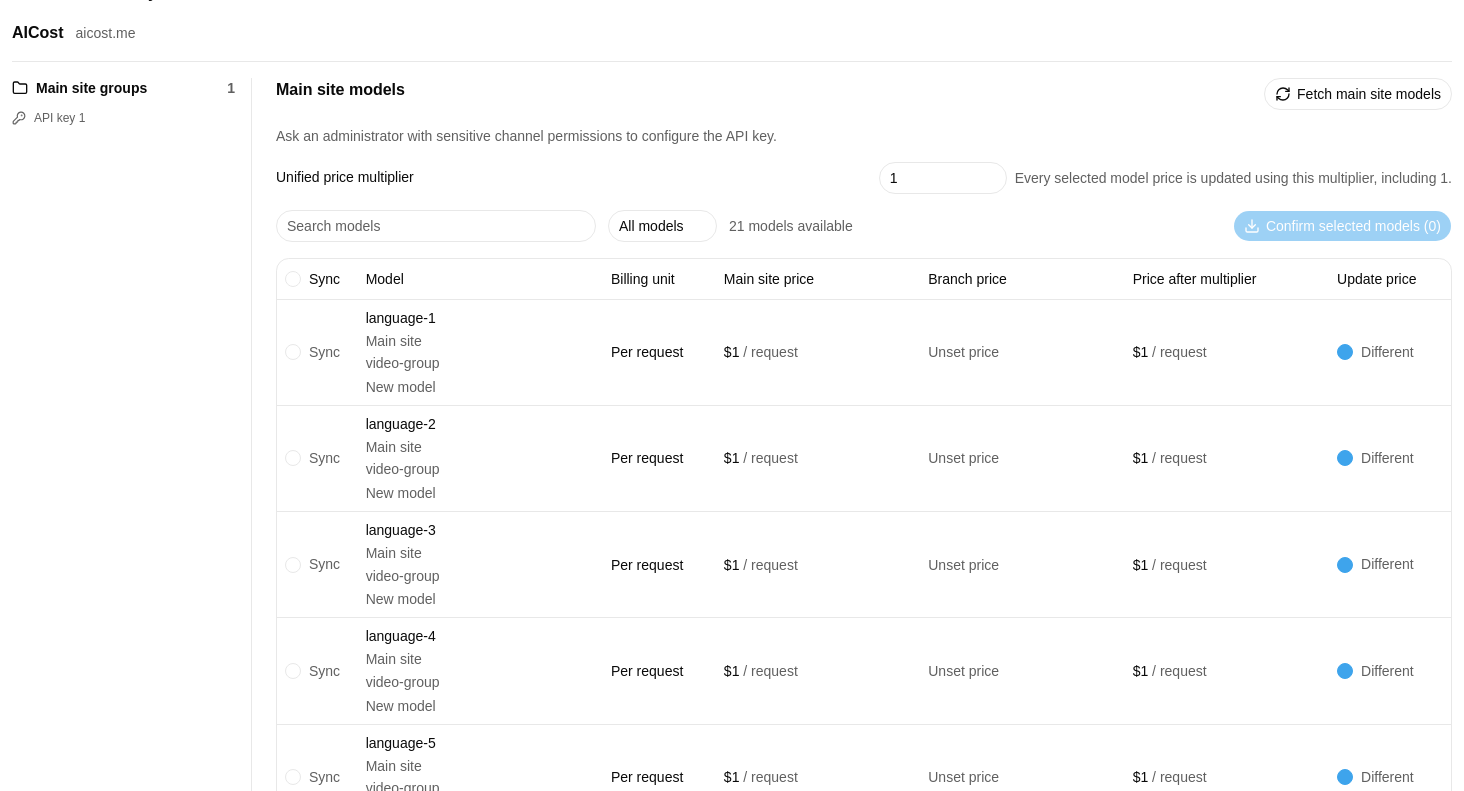
Test: main site catalog pagination › keeps blocked models with null prices visible when paging and expanding groups
The image size is (1464, 791).
Click the button "Fetch main site models" at (1358, 94), box [1264,78,1452,110]
(page scrolled)
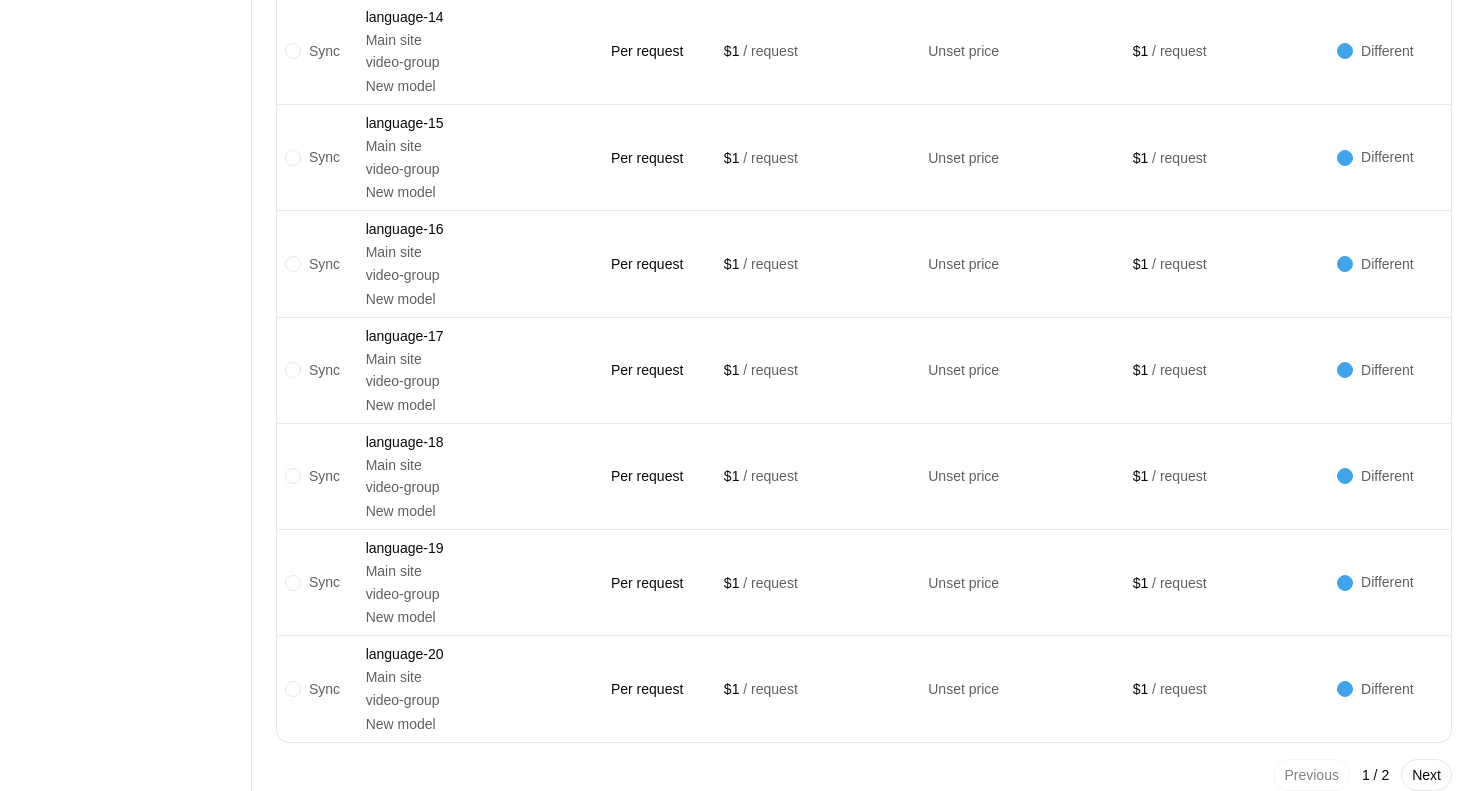
Click the button "Next" at (1427, 775), box [1401,759,1452,790]
(page scrolled)
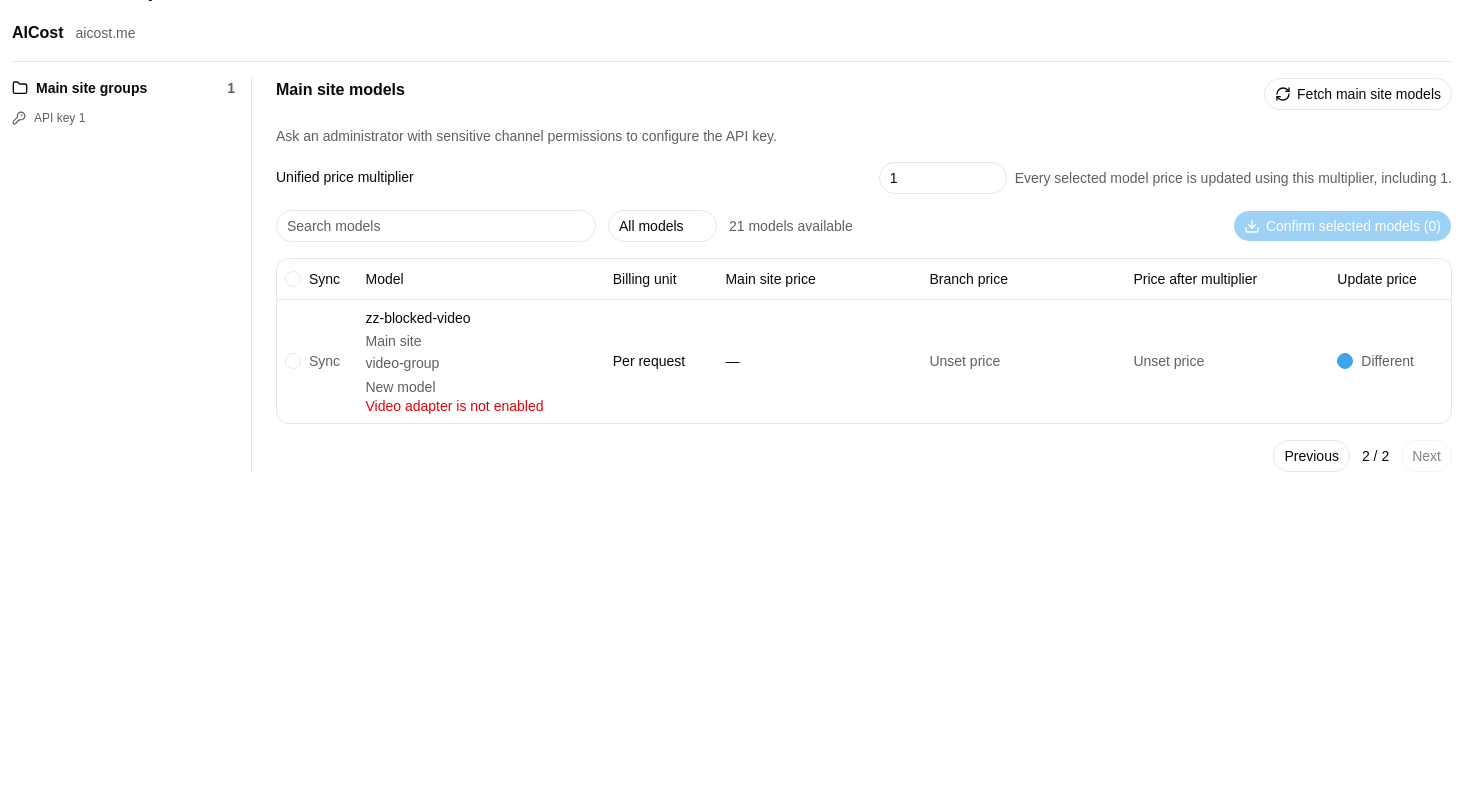
Check: the 1st text "Unset price" is shown, box [929,354,1000,370]
Check: the text "Video adapter is not enabled" is shown, box [366,398,544,414]
Click the button "Previous" at (1312, 456), box [1274,440,1350,472]
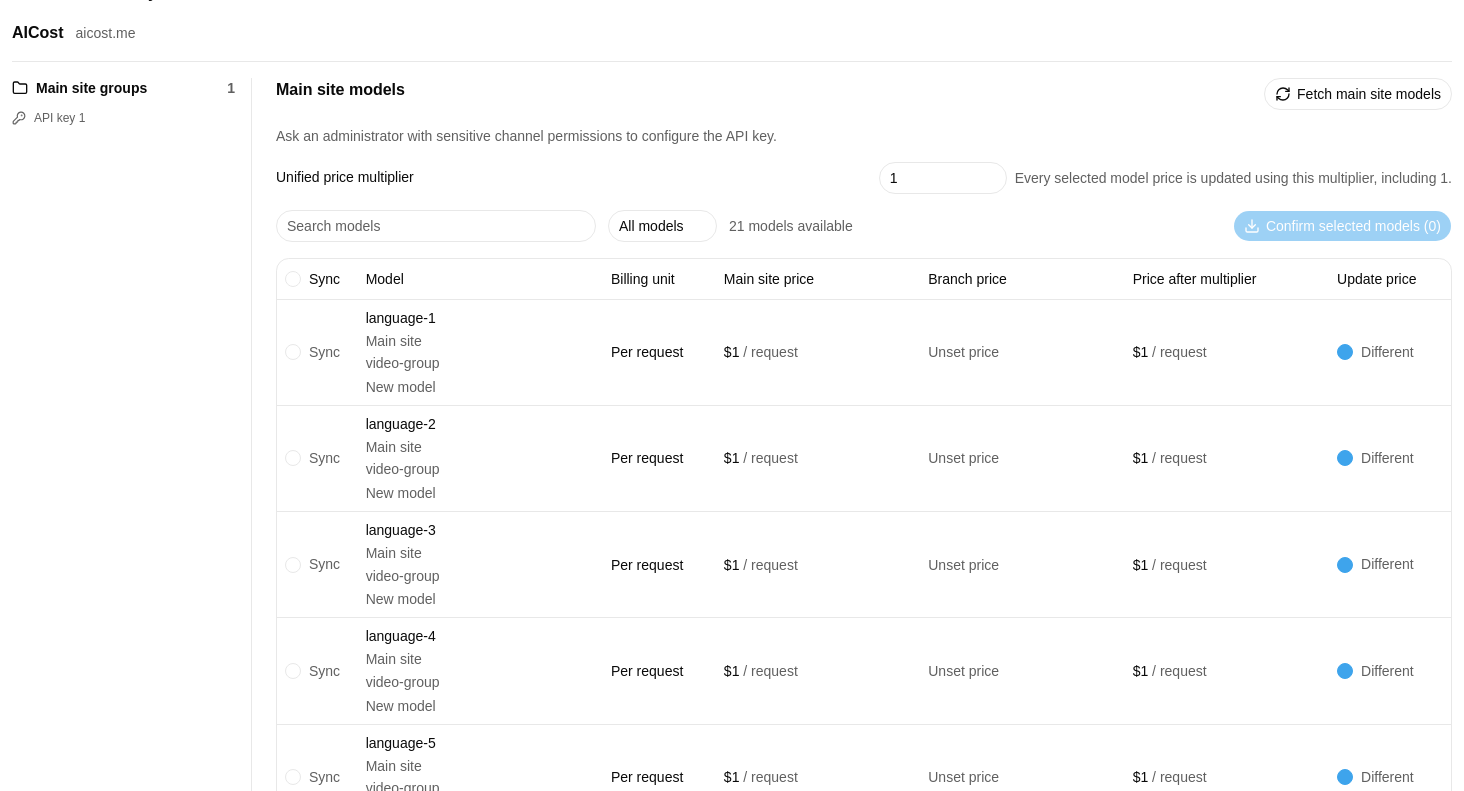
Check: the text "language-1" is shown, box [366,310,436,326]
